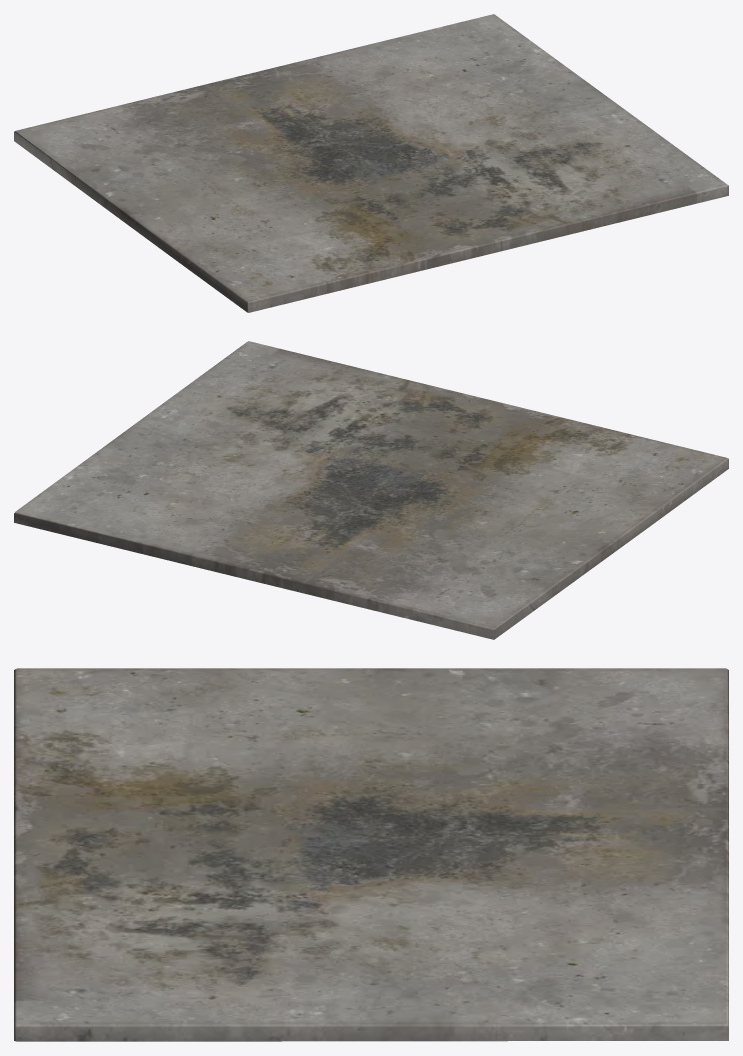
The model's file is curb.glb.
3 renders of one model, top to bottom at view 1: azimuth 30°, elevation 25°; view 2: azimuth 150°, elevation 25°; view 3: azimuth 270°, elevation 25°, orthographic. The views are drawn at different scales.
Parts seen in each view (by area): view 1: Sidewwalk_Long3_SidewalkMat_0; view 2: Sidewwalk_Long3_SidewalkMat_0; view 3: Sidewwalk_Long3_SidewalkMat_0.
Boxes of the visible parts, <box> form: Sidewwalk_Long3_SidewalkMat_0: <box>14,14,728,312</box>; Sidewwalk_Long3_SidewalkMat_0: <box>14,341,728,639</box>; Sidewwalk_Long3_SidewalkMat_0: <box>14,668,728,1041</box>.
Bounding box in the file's own units: 6.99 × 0.1493 × 5.9.
Materials: 1 (1 with a texture image).
